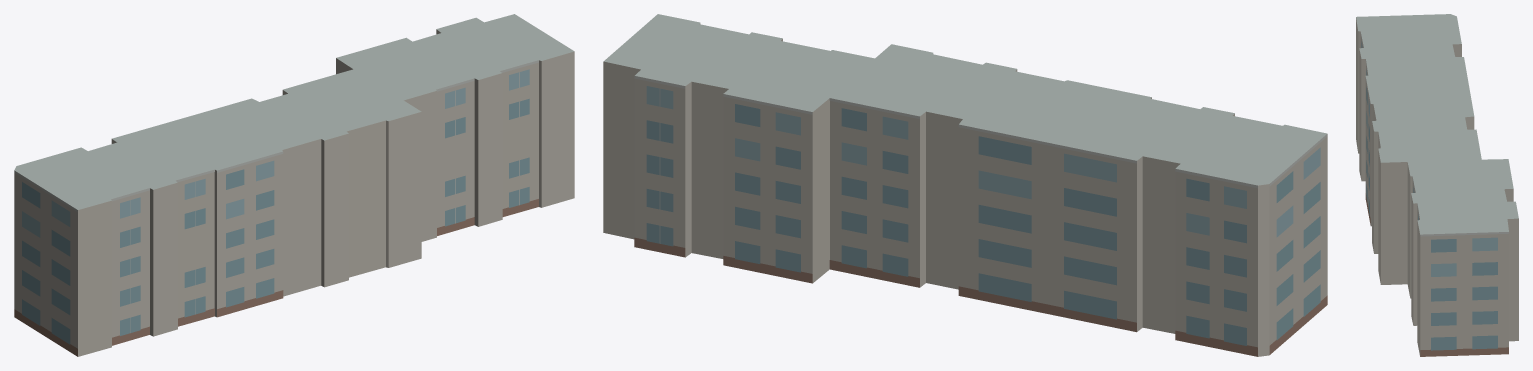
Rendered from survey-upis-32970789.glb.
3 views of the same model, side by side, from view 1: azimuth 30°, elevation 25°; view 2: azimuth 150°, elevation 25°; view 3: azimuth 270°, elevation 25° (orthographic). The views are drawn at different scales.
Parts seen in each view (by area): view 1: survey-upis-32970789.tmp; view 2: survey-upis-32970789.tmp; view 3: survey-upis-32970789.tmp.
Boxes of the visible parts, x1,y1,x2,y2 form: survey-upis-32970789.tmp: (14,14,574,356); survey-upis-32970789.tmp: (603,14,1327,356); survey-upis-32970789.tmp: (1356,14,1518,356).
Size of the model in its own units: 58.95 by 15.25 by 18.4.
